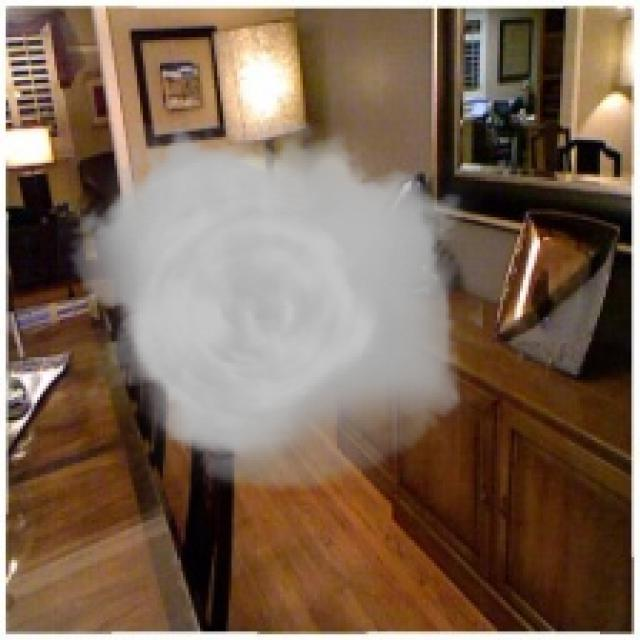Smoke: (57, 122, 483, 492)
